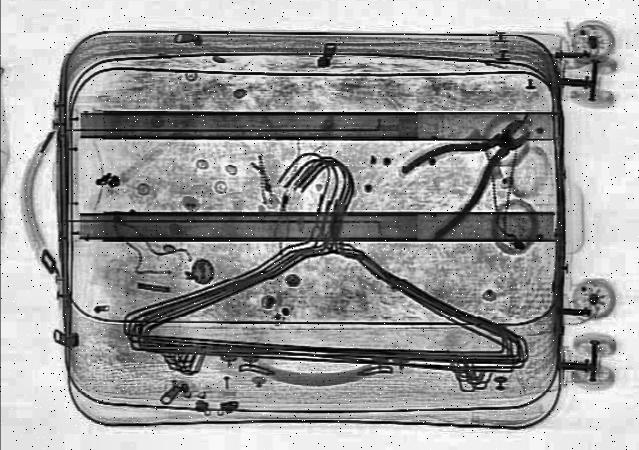Pliers: (360, 103, 566, 241)
